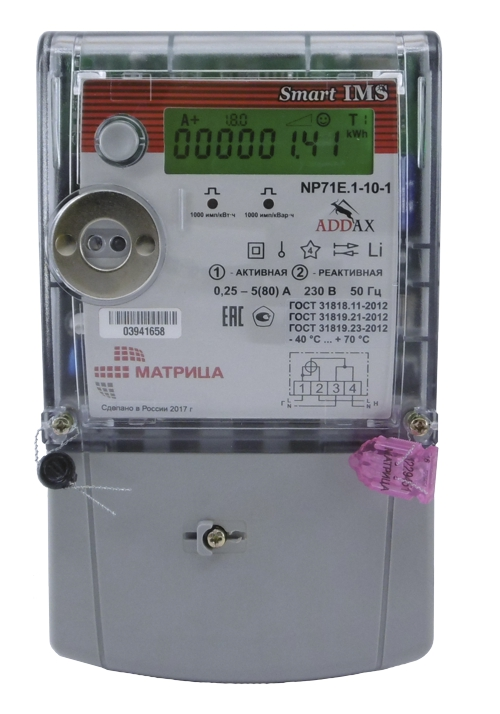counter: (38, 27, 435, 660)
counter_screen: (161, 102, 377, 180)
